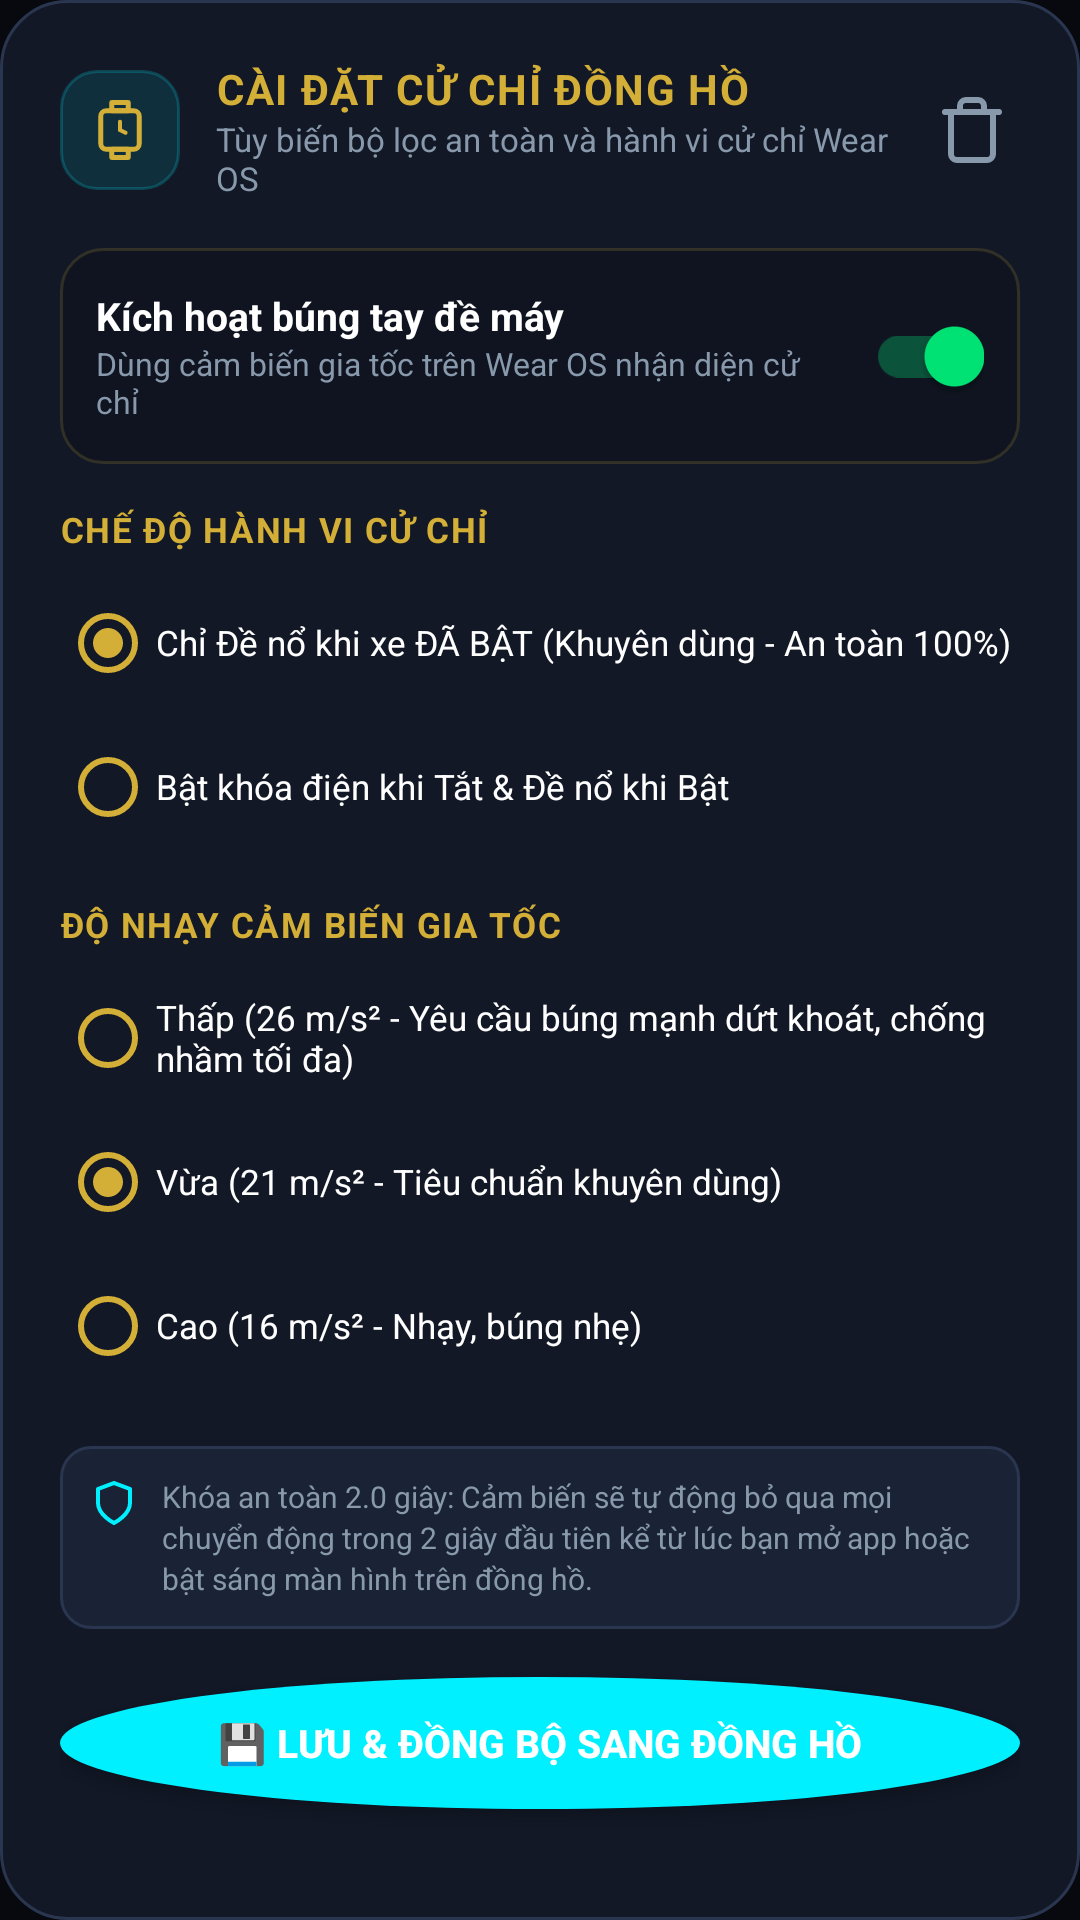

Icons on this 1080px x 1920px Android screen, each with its box as (x1, y1, x2, y2):
shield: (96, 1481, 132, 1525)
watch smart: (98, 100, 142, 160)
